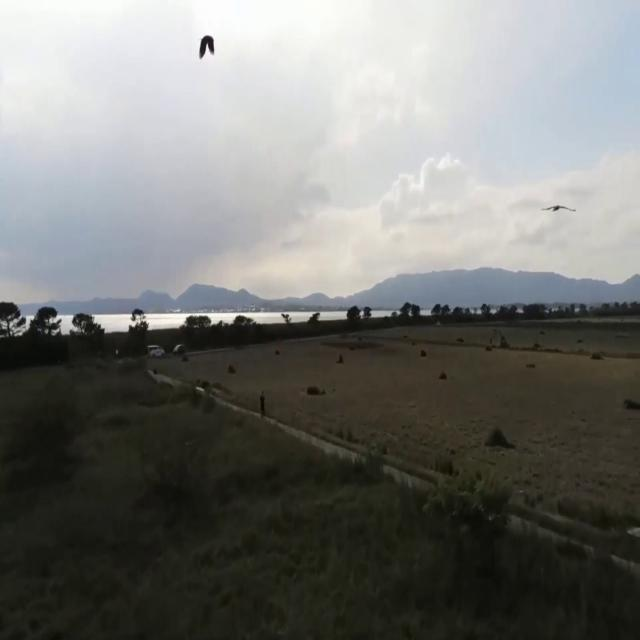bird: (197, 19, 216, 76), (545, 196, 572, 224)
